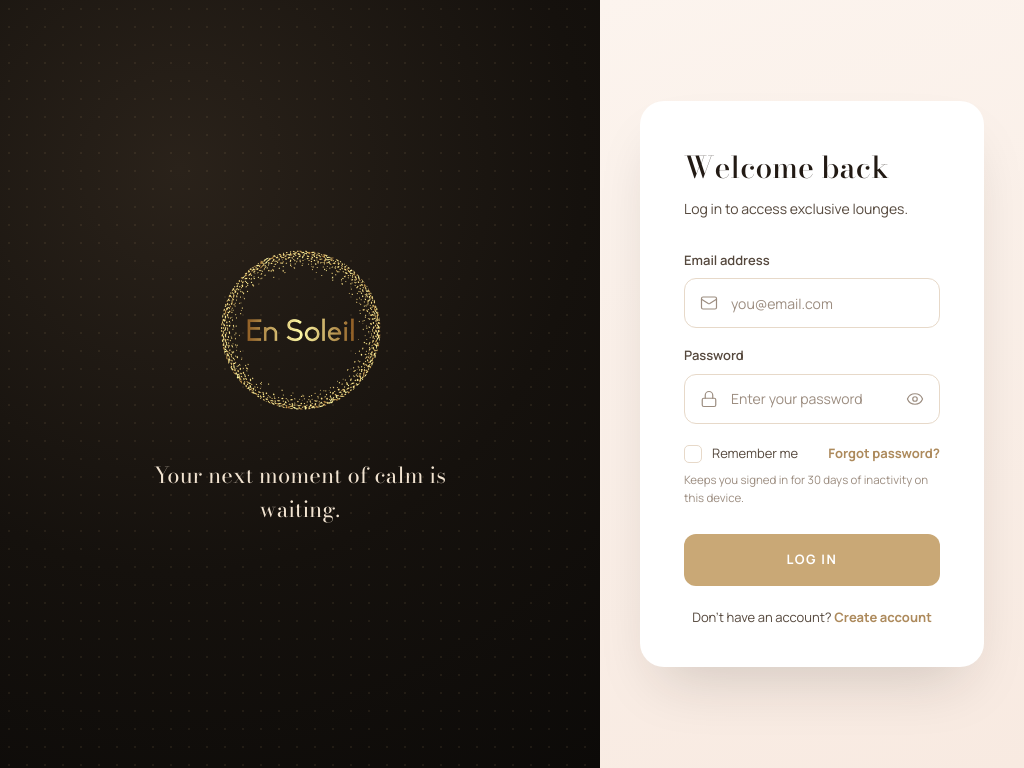
Test: validación de los campos › exige el email
Step 1. Type "EnSoleil!2026" into the password field labelled "Password" → point(812, 399), box x1=684 y1=374 x2=940 y2=424
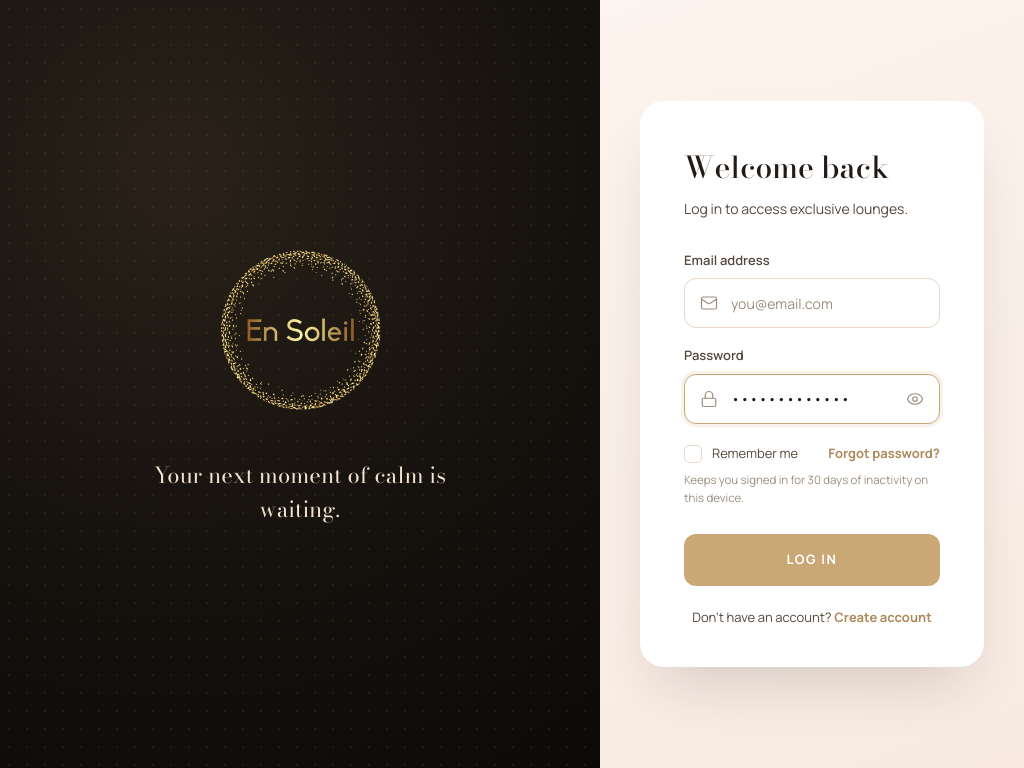
Step 2. Click the button "Log in" → point(812, 560), box x1=684 y1=534 x2=940 y2=586
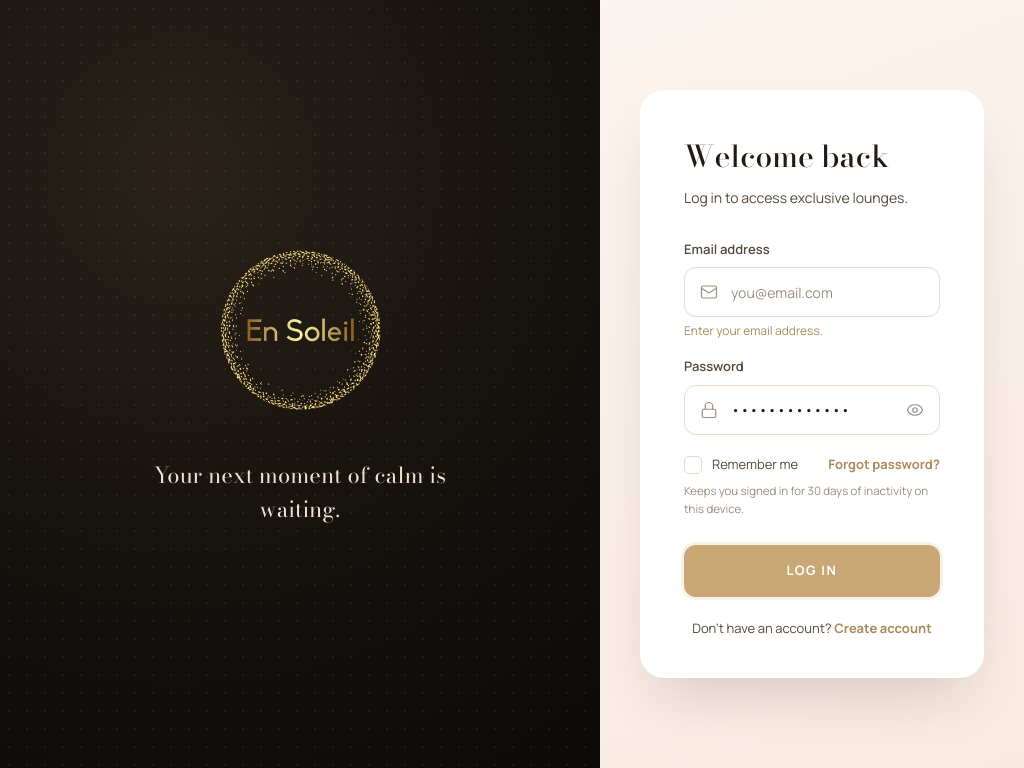
expect the text "Enter your email address." is shown: met, box x1=684 y1=322 x2=823 y2=339
